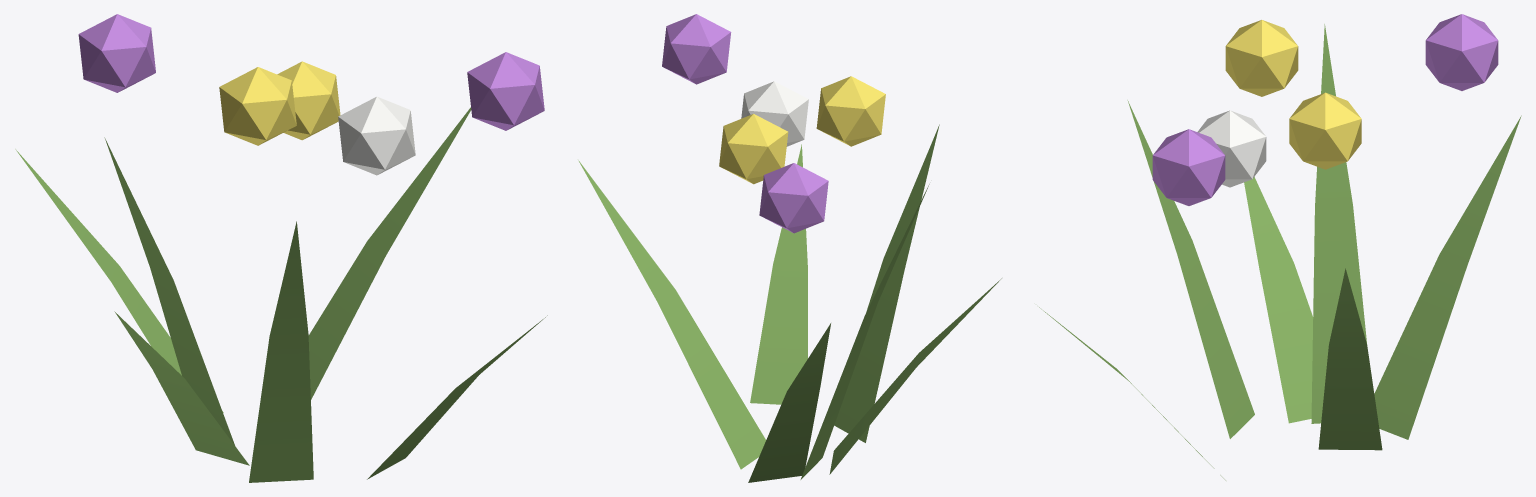
File: flowers.glb
3 views of the same model, side by side, from view 1: azimuth 30°, elevation 25°; view 2: azimuth 150°, elevation 25°; view 3: azimuth 270°, elevation 25° (orthographic). The views are drawn at different scales.
Parts seen in each view (by area): view 1: flowers; view 2: flowers; view 3: flowers.
Boxes of the visible parts, x1,y1,x2,y2 form: flowers: (15,14,547,482); flowers: (578,14,1001,482); flowers: (1039,14,1521,480).
Size of the model in its own units: 0.669 by 0.6229 by 0.6896.
